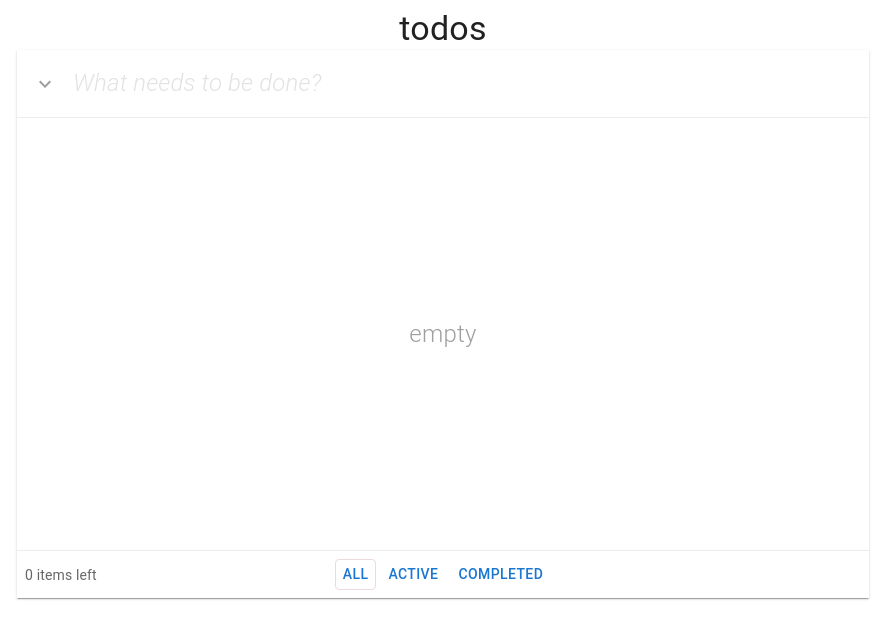
Scenario: Todo Component › adds a new todo when submitting the form
In the field with placeholder "What needs to be done?": coordinates (471, 84) [73,62,869,106], type "Test task"
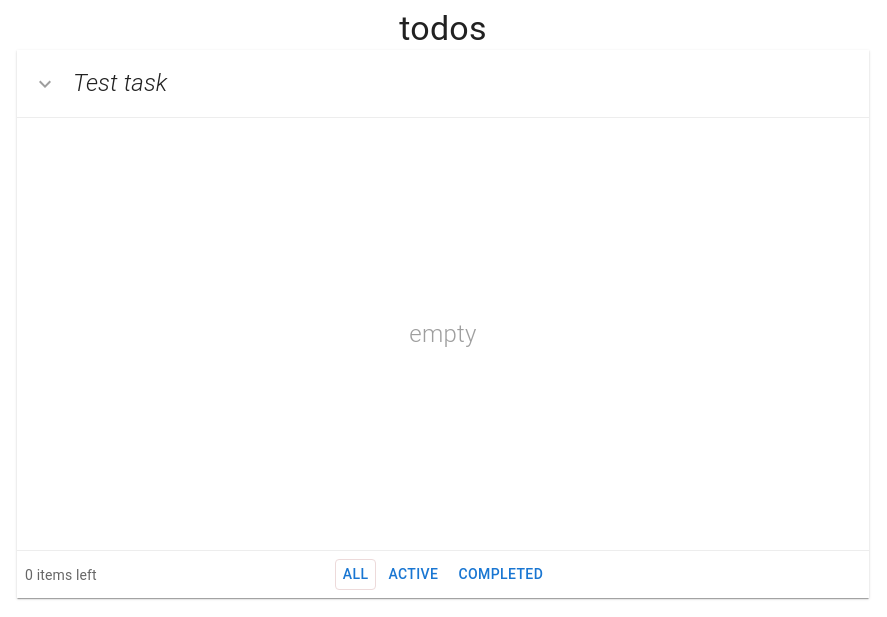
Press Enter in the field with placeholder "What needs to be done?", box [73,62,869,106]
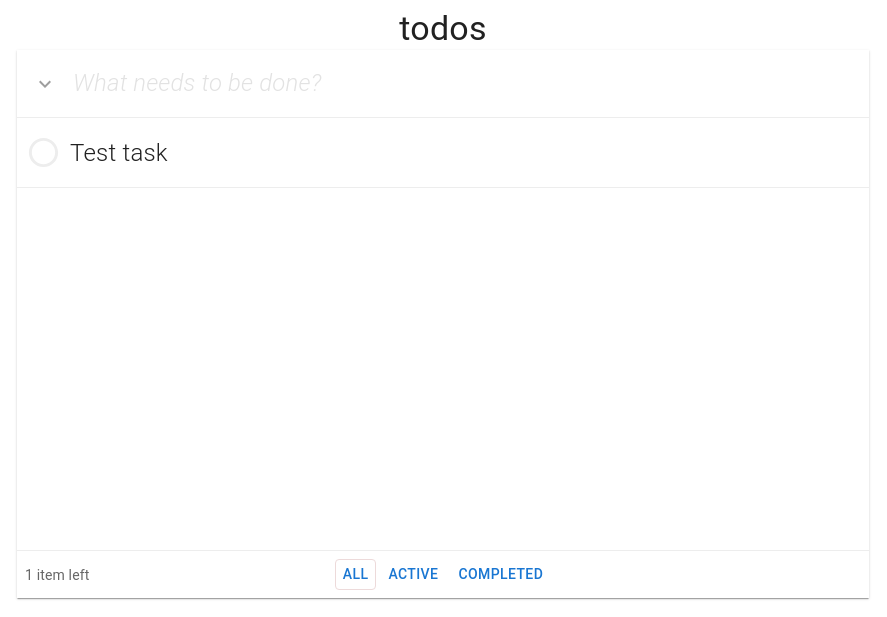
Expected: the text "Test task" is shown, [70,133,168,173]
